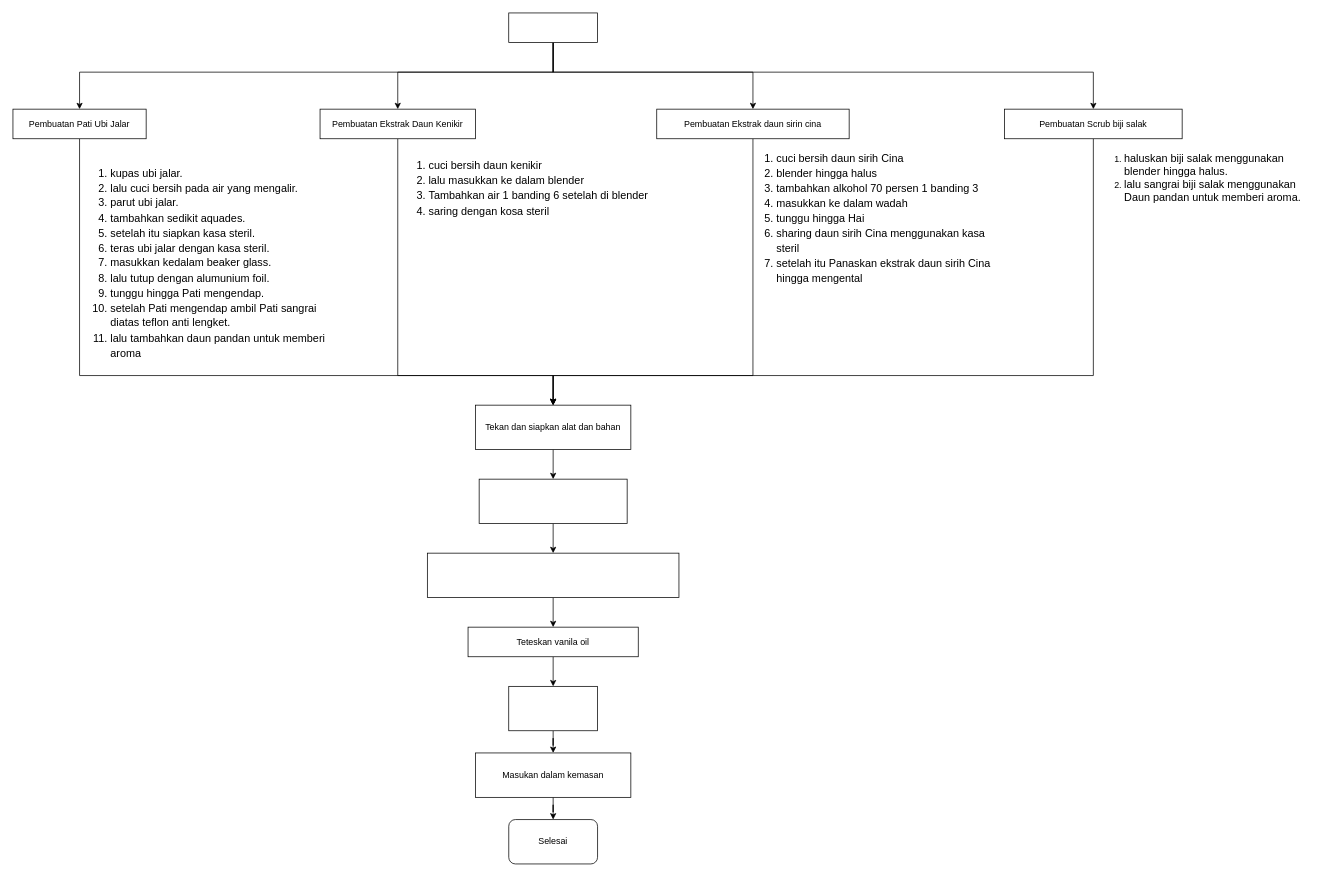
Image size: 1328x877. Some labels were removed from this diagram. The box of each missing label's shape, as (x1, y1, x2, y2) in pixels:
buat bentuk ball: (508, 686, 598, 731)
Mulai: (508, 12, 598, 43)
Sangrai bahan pada kompor dipanaskan: (427, 552, 679, 598)
Timbang semya bahan: (478, 478, 627, 524)
